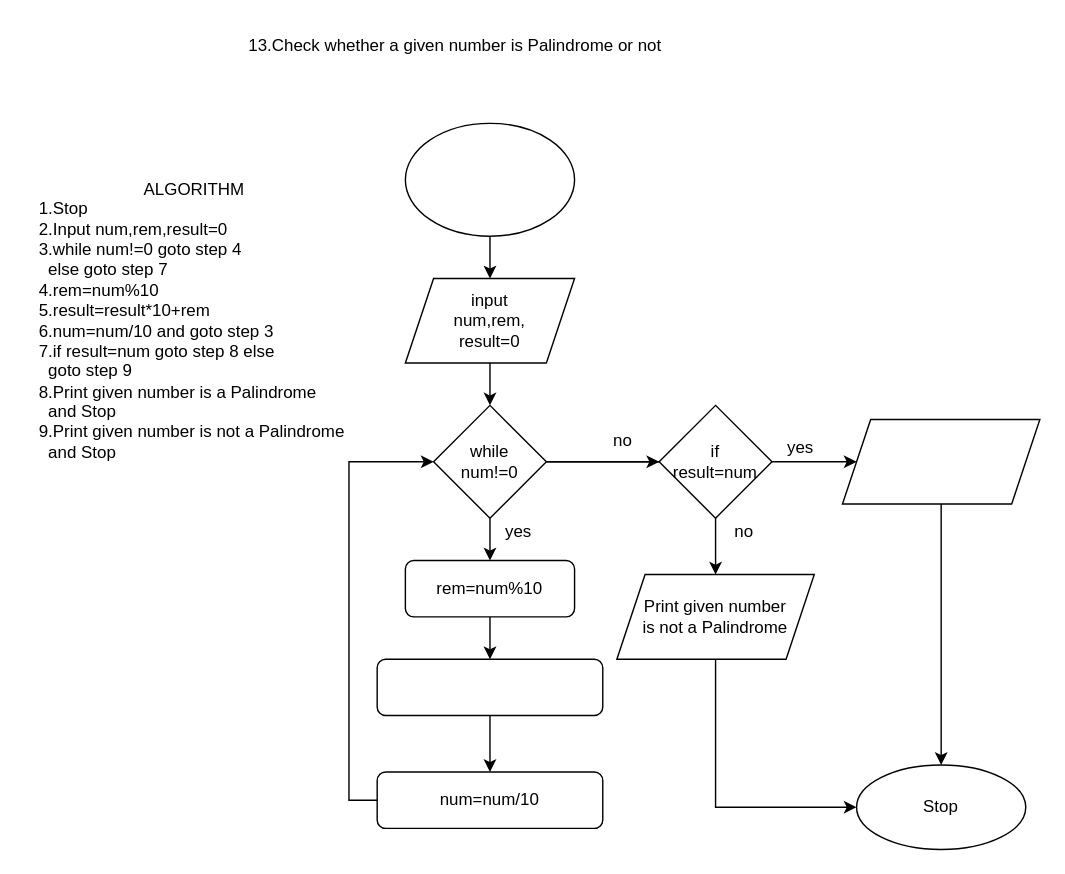
This 1065x874 diagram has some shape labels left out. The centre of each missing label's shape, as x and y in pixels:
Print given number is a Palindrome: pixel 940 461
result=result*10+rem: pixel 489 687
Start: pixel 489 179
